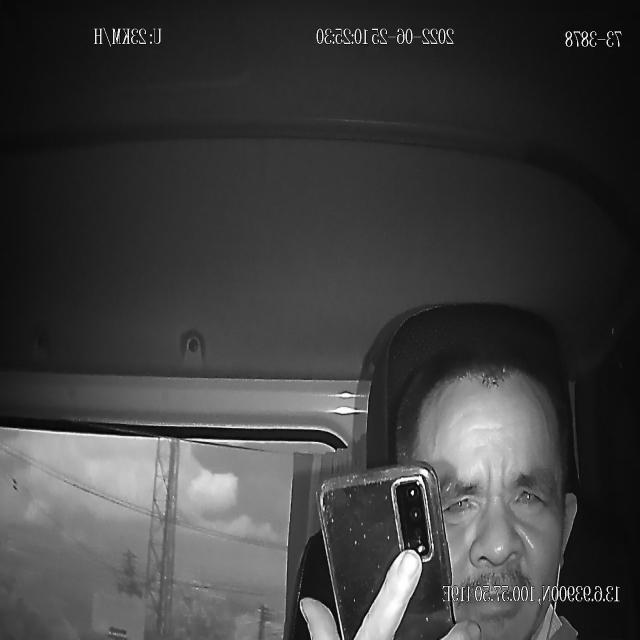phone: (316, 460, 455, 640)
